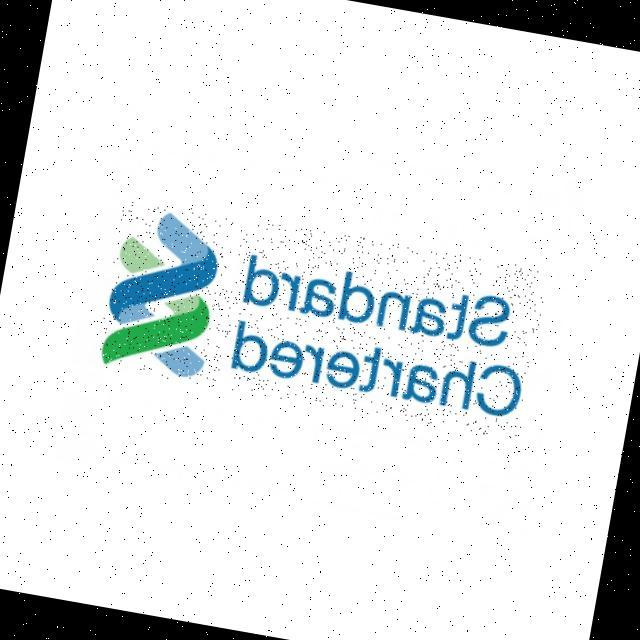Standard Chartered: (94, 195, 548, 440)
